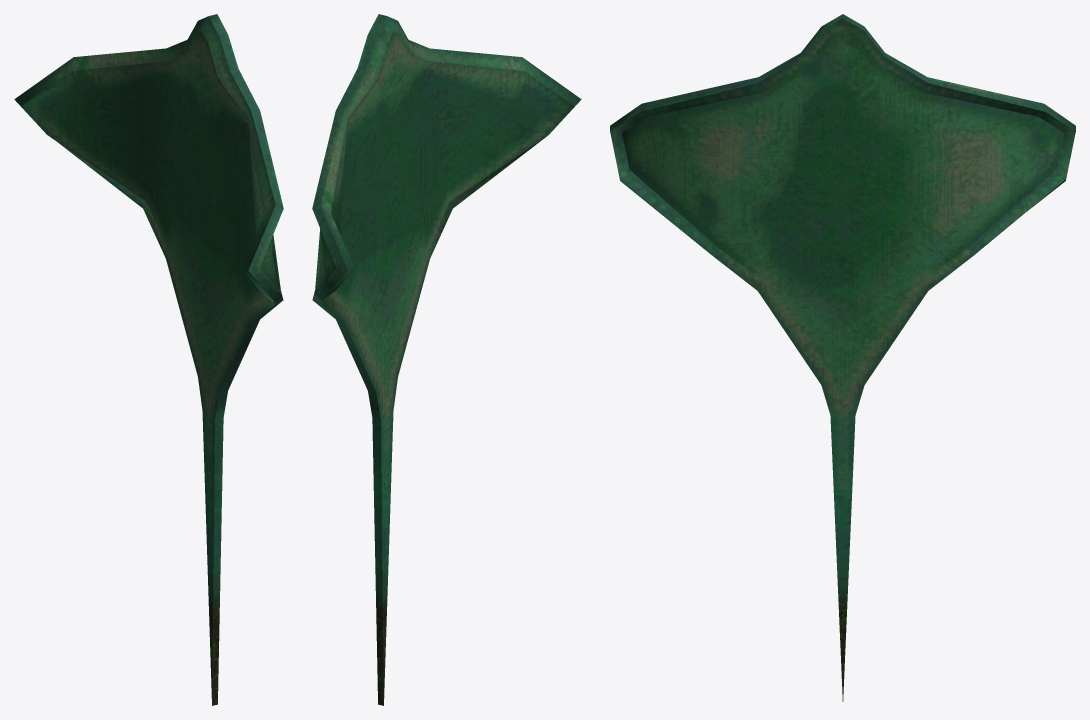
Rendered from FIH_TEST.fbx.
The picture shows the model from 3 angles, left to right: view 1: azimuth 30°, elevation 25°; view 2: azimuth 150°, elevation 25°; view 3: azimuth 270°, elevation 25°; orthographic projection.
Visible parts, largest first — view 1: fish_wires.003; view 2: fish_wires.003; view 3: fish_wires.003.
Part boxes in pixels (bbox=[...]): fish_wires.003: bbox=[14, 14, 283, 705]; fish_wires.003: bbox=[312, 14, 581, 705]; fish_wires.003: bbox=[610, 14, 1075, 701].
Size of the model in its own units: 17.99 by 137 by 84.11.
Materials: 1 (1 with a texture image).
